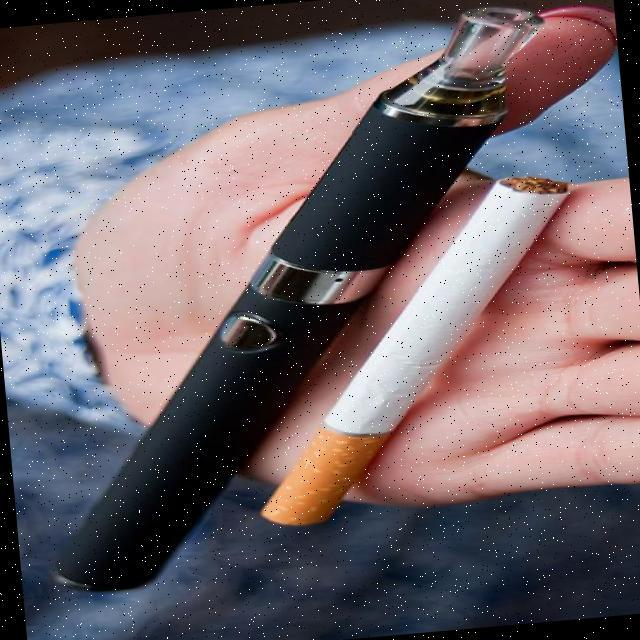cigarette: (210, 153, 622, 554)
